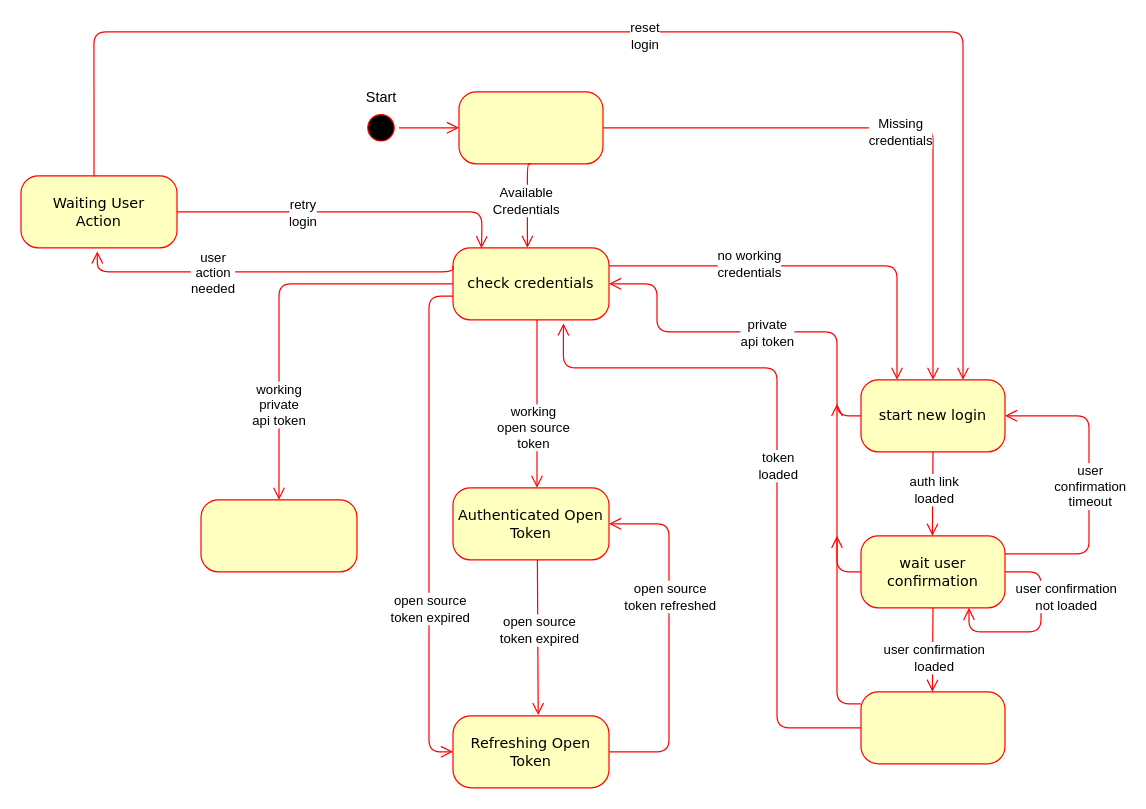
Some shapes in this 1146 by 809 pixel diagram are drawn without their labels. The shapes that lost their labels are listed below. From the top down, each one's centre as x and y in pixels, then its label:
At (530,127): "get credentials (proto + room)".
At (278,535): "Authenticated Private Token".
At (932,727): "wait token confirmation".
